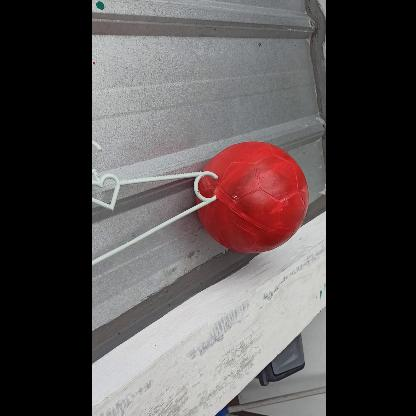red_ball: (195, 140, 306, 252)
